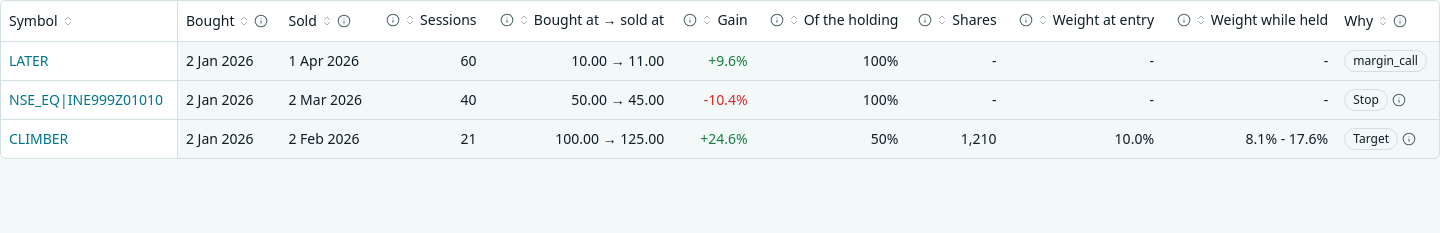
Test case: BacktestTradesTable › says what a sale's reason means on its badge, above the table
Hover over the button named "What Stop means" at x=1399, y=100, box [1392,92,1406,106]
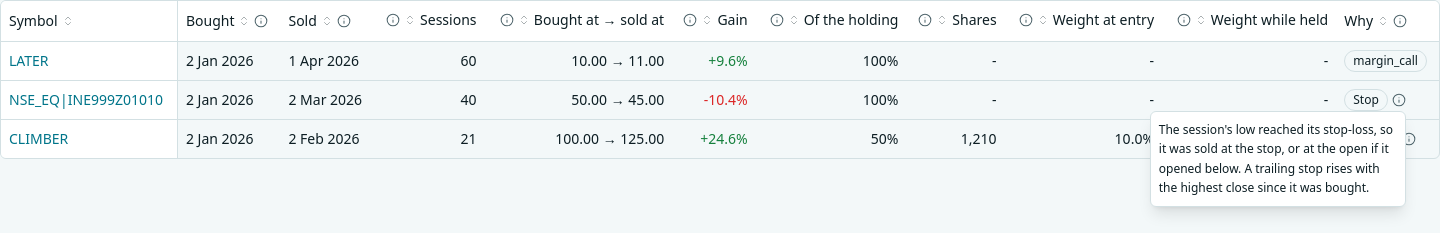
Check: the button named "What Target means" is shown, box [1402,132,1416,146]
Check: the tooltip shows "sold at the stop, or at the open if it opened below", box [1159,120,1393,196]
